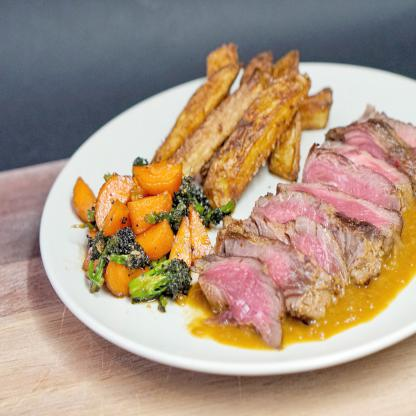Carne: (220, 235, 333, 330), (189, 251, 282, 346), (252, 184, 352, 264), (303, 144, 402, 214), (287, 182, 398, 232), (334, 131, 409, 198), (280, 214, 348, 285)
